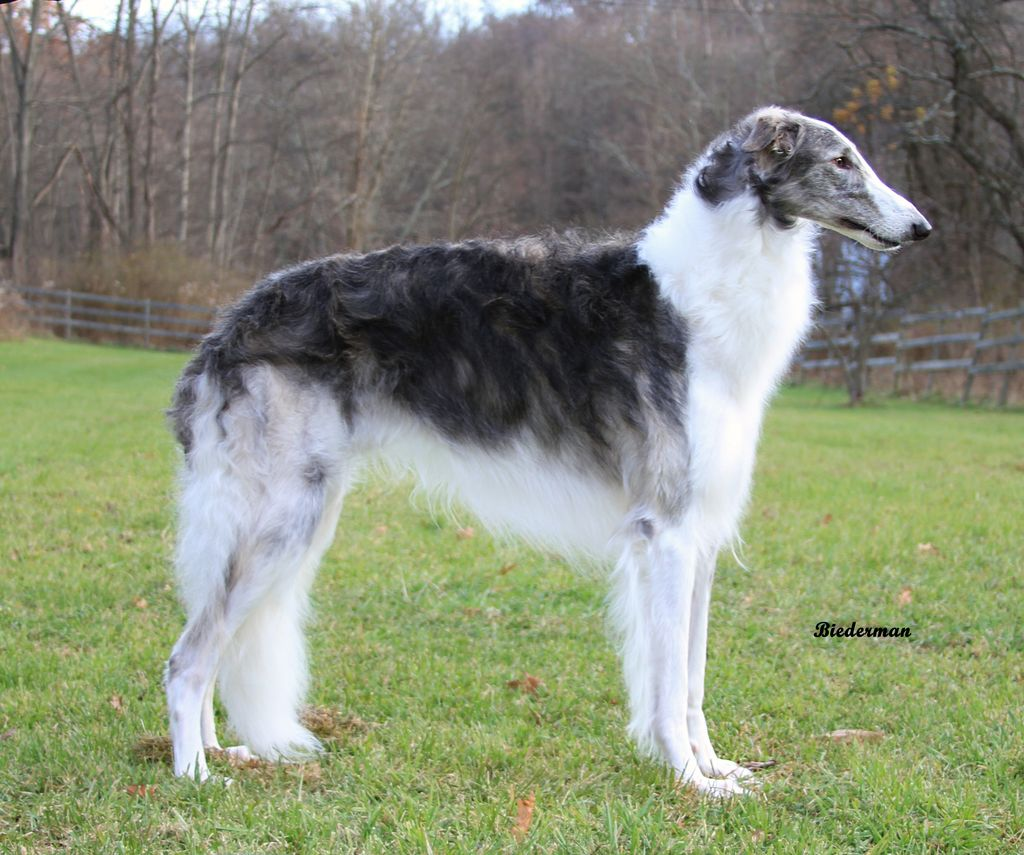borzoi: (131, 99, 960, 807)
